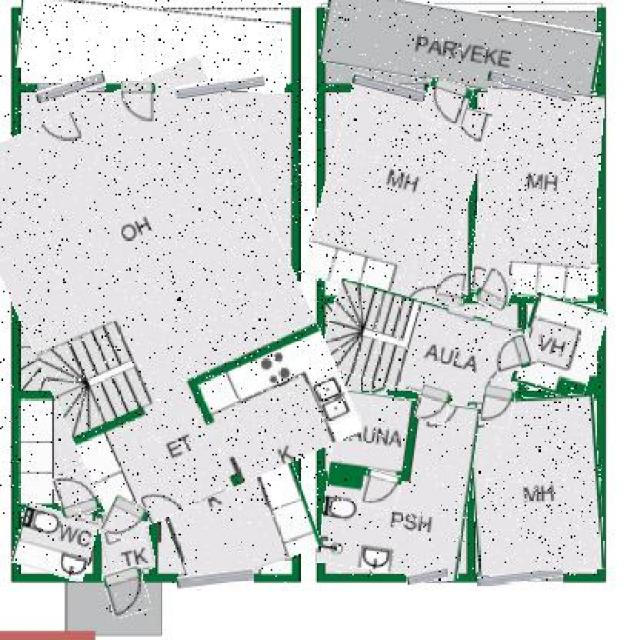door: (423, 79, 472, 126), (105, 566, 149, 617), (54, 471, 98, 517), (103, 497, 148, 541), (492, 335, 536, 371), (475, 269, 514, 309), (120, 82, 155, 126), (480, 386, 514, 429), (362, 471, 400, 509), (417, 386, 451, 423), (436, 270, 466, 304)
window: (486, 77, 574, 97), (36, 77, 106, 100), (176, 77, 264, 95), (351, 77, 426, 97), (177, 571, 254, 589), (477, 572, 563, 585), (406, 569, 448, 585)
zone: (0, 74, 326, 518), (314, 83, 480, 303), (144, 385, 308, 583), (322, 394, 476, 577), (476, 88, 602, 300), (321, 0, 601, 95), (471, 396, 602, 576), (17, 2, 291, 88), (322, 291, 520, 403), (517, 297, 603, 398), (320, 392, 406, 477), (15, 508, 96, 578), (99, 506, 152, 576)
